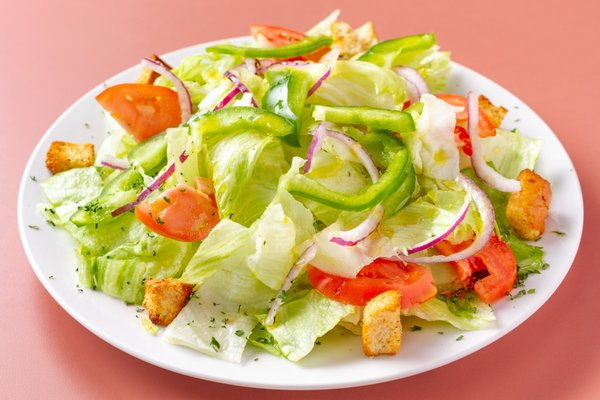curry: (7, 0, 595, 394)
pizza: (95, 83, 182, 143), (134, 183, 220, 242)
